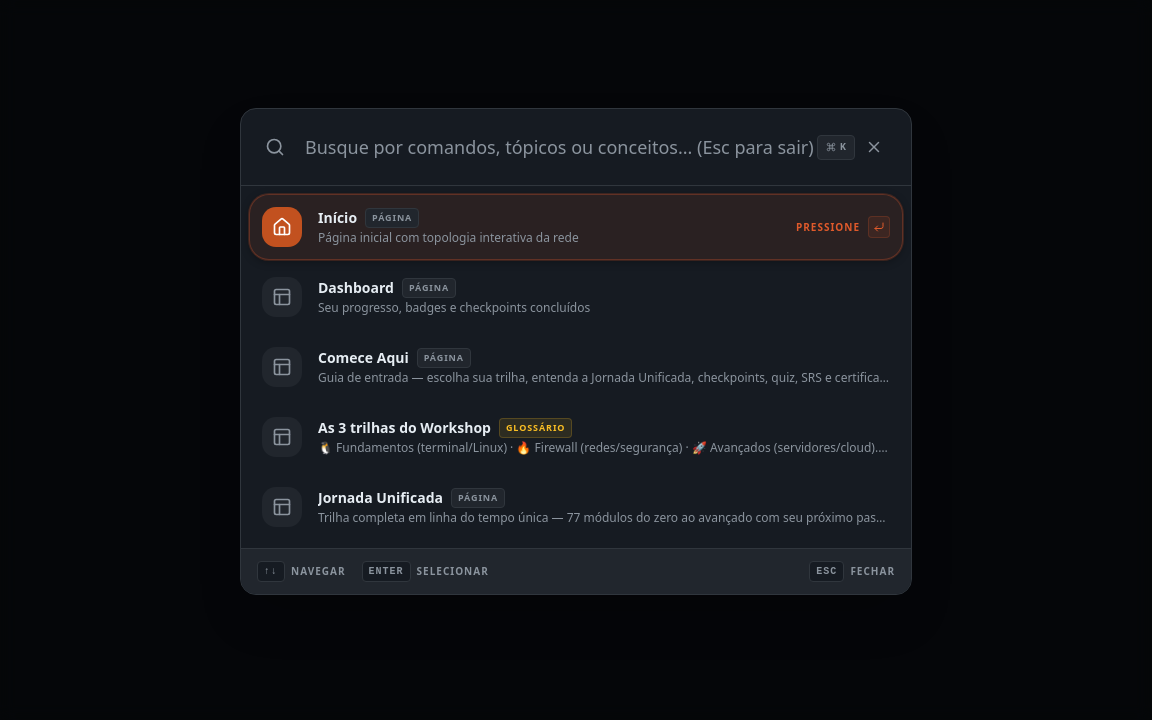
Test: GlobalSearch › query sem correspondência exibe estado de "nenhum resultado"
The image size is (1152, 720).
Type "zzz_termo_inexistente_xyzxyz" into the dropdown at (576, 147), box [257,125,895,169]
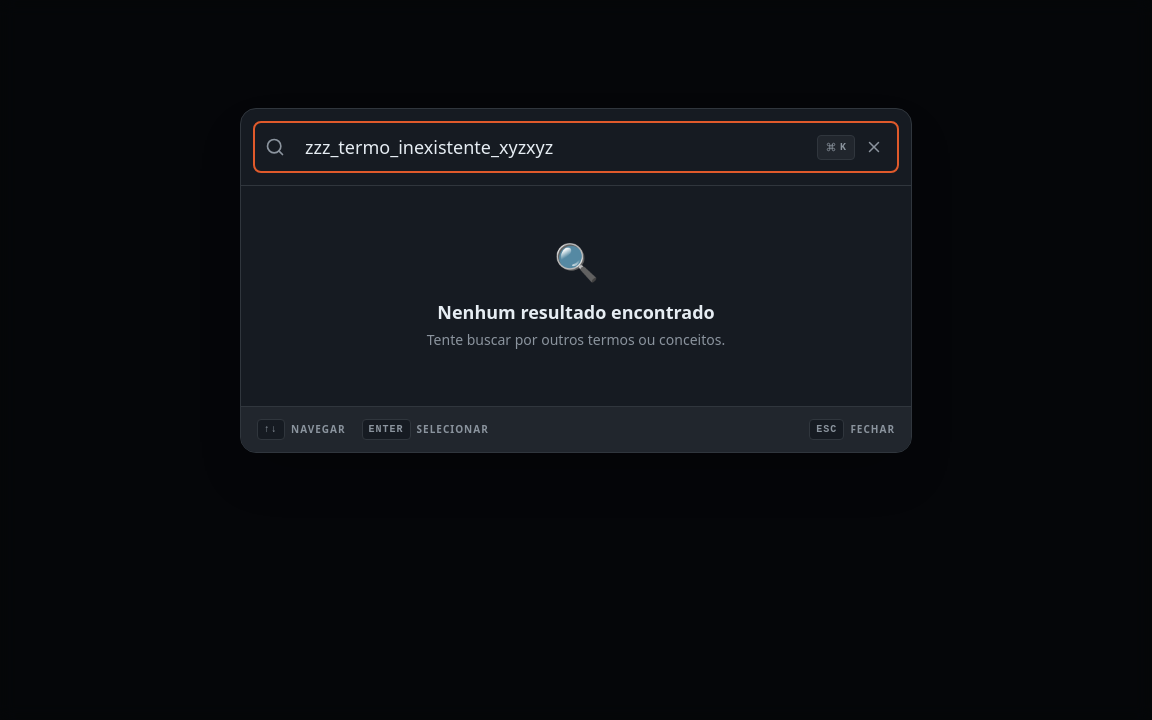
Result: the heading "Nenhum resultado encontrado" is shown at [437,300,715,324]
